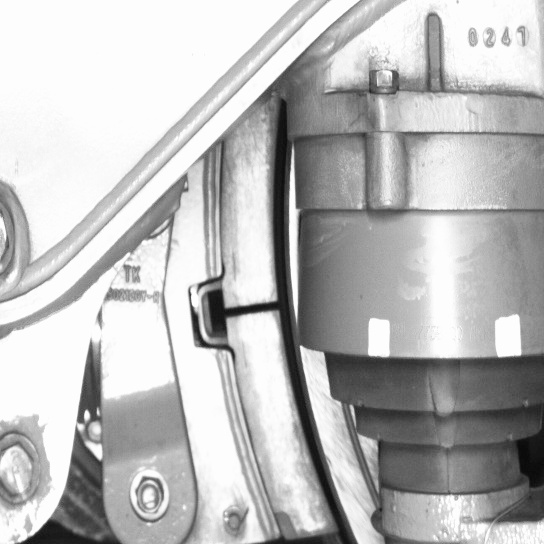KnifeSwitch: (225, 134, 360, 542)
